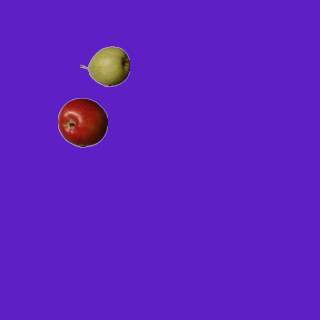Apple Braeburn: (57, 97, 107, 147)
Pear: (79, 41, 129, 91)
